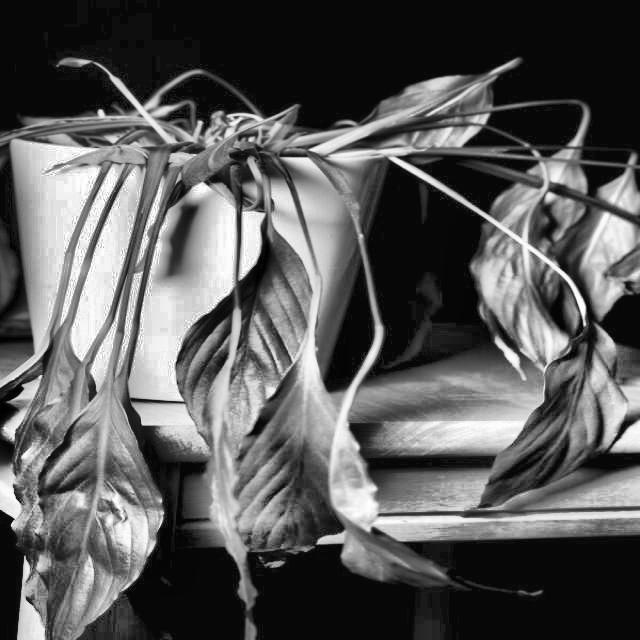plants: (1, 39, 639, 639)
